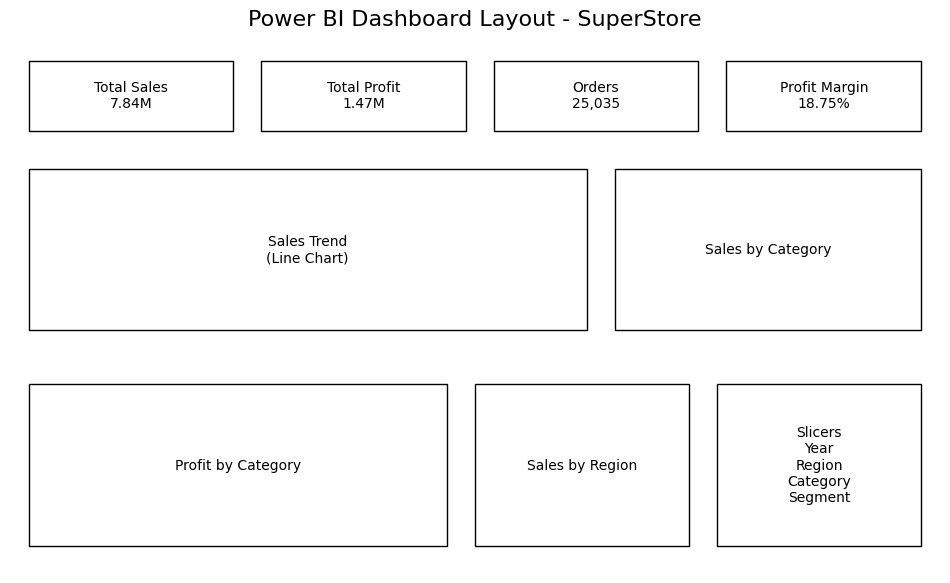

Layout of this report page (visuals, bound fields, positions):
{"tool":"powerbi","page":{"name":"Executive Overview","canvas":[1280,720],"ordinal":0},"visuals":[{"type":"cardVisual","fields":{"Data":["SuperStoreOrders.Total Sales"]},"box":[15.1,13.7,222.3,101.5],"z":0},{"type":"cardVisual","fields":{"Data":["SuperStoreOrders.Total Profit"]},"box":[352.7,13.7,208.6,101.5],"z":1},{"type":"cardVisual","fields":{"Data":["SuperStoreOrders.Total Orders"]},"box":[669.6,13.7,207.2,101.5],"z":2},{"type":"cardVisual","fields":{"Data":["SuperStoreOrders.Profit Margin %"]},"box":[1003.1,13.7,214.1,101.5],"z":3},{"type":"lineChart","title":"Sales trend by year","fields":{"Category":["SuperStoreOrders.order_date.Variation.Date Hierarchy.Year","SuperStoreOrders.order_date.Variation.Date Hierarchy.Quarter","SuperStoreOrders.order_date.Variation.Date Hierarchy.Month","SuperStoreOrders.order_date.Variation.Date Hierarchy.Day"],"Y":["SuperStoreOrders.Total Sales"]},"box":[15.1,148.2,337.6,236],"z":4},{"type":"clusteredColumnChart","title":"Sales by category","fields":{"Category":["SuperStoreOrders.category"],"Y":["SuperStoreOrders.Total Sales"]},"box":[393.8,148.2,343.1,236],"z":5},{"type":"barChart","title":"Profit by category","fields":{"Category":["SuperStoreOrders.category"],"Y":["SuperStoreOrders.Total Profit"]},"box":[773.9,148.2,347.2,236],"z":6},{"type":"map","fields":{"Series":["SuperStoreOrders.region"],"Size":["SuperStoreOrders.Total Sales"]},"box":[15.1,414.4,337.6,259.3],"z":7},{"type":"donutChart","fields":{"Category":["SuperStoreOrders.segment"],"Y":["SuperStoreOrders.Total Sales"]},"box":[393.8,414.4,343.1,259.3],"z":8},{"type":"slicer","fields":{"Values":["SuperStoreOrders.region"]},"box":[767.1,414.4,163.3,156.4],"z":9},{"type":"slicer","fields":{"Values":["SuperStoreOrders.category"]},"box":[1096.4,414.4,163.3,150.9],"z":10},{"type":"slicer","fields":{"Values":["SuperStoreOrders.segment"]},"box":[944.1,566.7,141.3,134.5],"z":11}]}

Visuals, with their boxes on the page's 1280x720 design canvas (x1, y1, x2, y2). These are canvas units, not pixel positions in the 950x583 screenshot, which may show the page scaled, cropped or inside an application window:
cardVisual - SuperStoreOrders.Total Sales: box(15, 14, 237, 115)
cardVisual - SuperStoreOrders.Total Profit: box(353, 14, 561, 115)
cardVisual - SuperStoreOrders.Total Orders: box(670, 14, 877, 115)
cardVisual - SuperStoreOrders.Profit Margin %: box(1003, 14, 1217, 115)
"Sales trend by year" lineChart: box(15, 148, 353, 384)
"Sales by category" clusteredColumnChart: box(394, 148, 737, 384)
"Profit by category" barChart: box(774, 148, 1121, 384)
map - SuperStoreOrders.region x SuperStoreOrders.Total Sales: box(15, 414, 353, 674)
donutChart - SuperStoreOrders.segment x SuperStoreOrders.Total Sales: box(394, 414, 737, 674)
slicer - SuperStoreOrders.region: box(767, 414, 930, 571)
slicer - SuperStoreOrders.category: box(1096, 414, 1260, 565)
slicer - SuperStoreOrders.segment: box(944, 567, 1085, 701)
